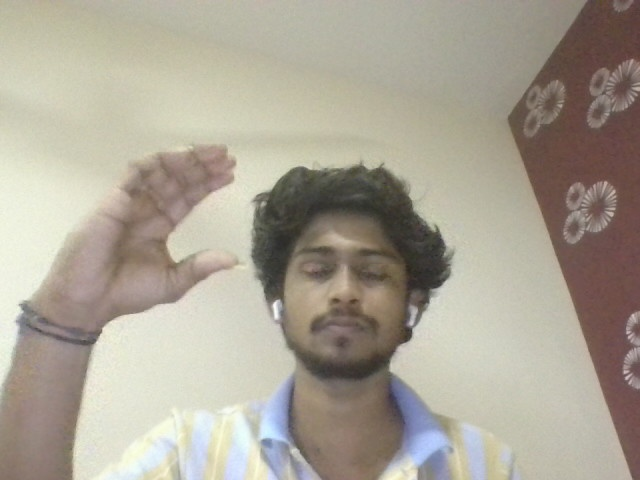No: (63, 141, 249, 311)
